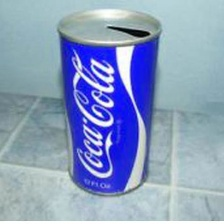can: (53, 2, 166, 200)
